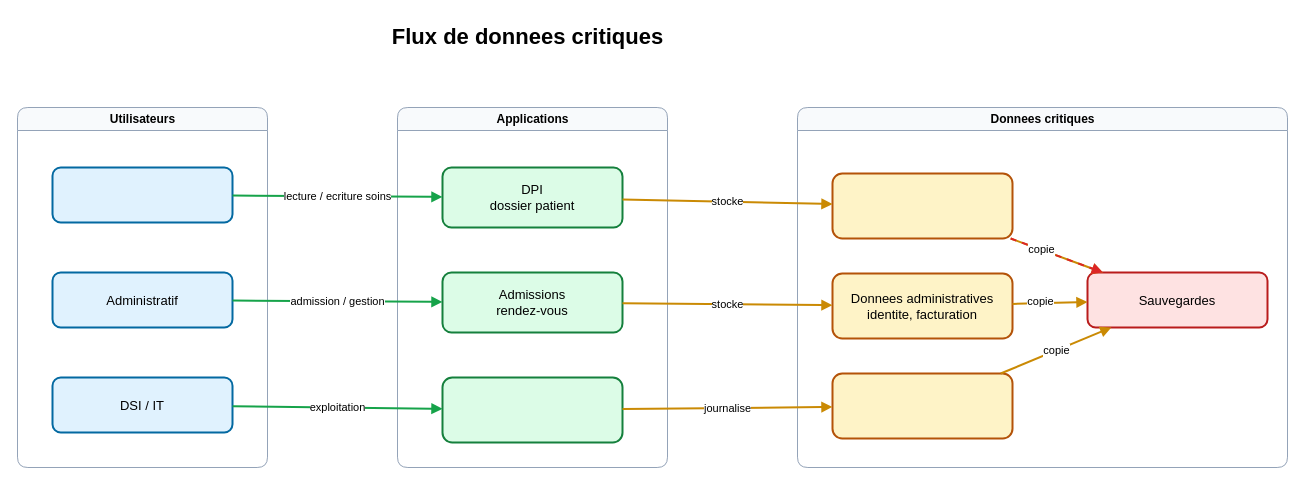
Image size: 1305x485. Some labels were removed from this diagram. Each missing label, with the centre of its shape:
"Donnees patient prescriptions, comptes rendus" goes at [922,205].
"Donnees techniques logs, configurations" goes at [922,405].
"Outils techniques supervision, sauvegarde" goes at [532,409].
"Soignants" goes at [142,194].
